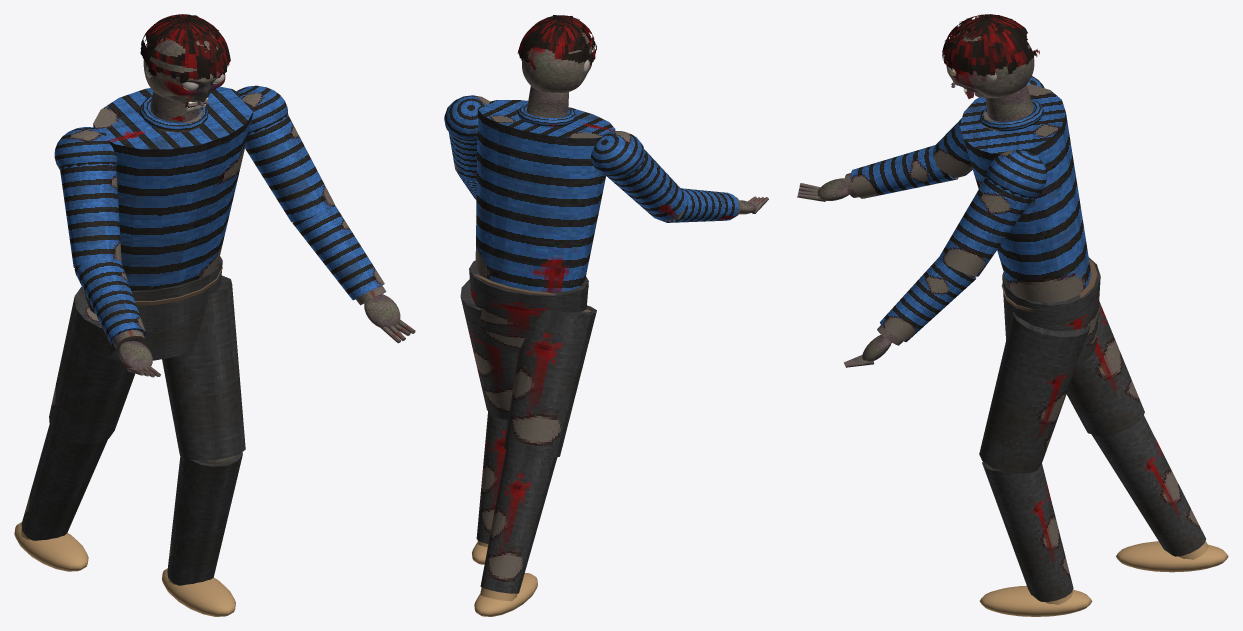
Rendered from Zombie_102.glb.
3 views of the same model, side by side, from view 1: azimuth 30°, elevation 25°; view 2: azimuth 150°, elevation 25°; view 3: azimuth 270°, elevation 25° (orthographic). The views are drawn at different scales.
Visible parts, largest first — view 1: Zombie_102, object 12, object 4, object 45, object 18, object 13, object 5, object 44; view 2: Zombie_102, object 45, object 18, object 4; view 3: Zombie_102, object 45, object 12, object 4, object 18.
Boxes of the visible parts, x1,y1,x2,y2 form: Zombie_102: [14, 85, 334, 616]; object 12: [292, 204, 384, 300]; object 4: [74, 258, 146, 347]; object 45: [140, 14, 230, 80]; object 18: [143, 32, 225, 104]; object 13: [364, 294, 400, 327]; object 5: [119, 341, 152, 368]; object 44: [142, 26, 227, 82]; Zombie_102: [444, 86, 687, 616]; object 45: [517, 15, 596, 67]; object 18: [522, 29, 592, 92]; object 4: [661, 188, 739, 222]; Zombie_102: [933, 76, 1228, 616]; object 45: [942, 14, 1039, 74]; object 12: [880, 257, 976, 342]; object 4: [850, 145, 958, 198]; object 18: [944, 31, 1034, 98].
Bounding box in the file's own units: 0.8709 × 1.7 × 1.15.
Materials: 16 (6 with a texture image).
